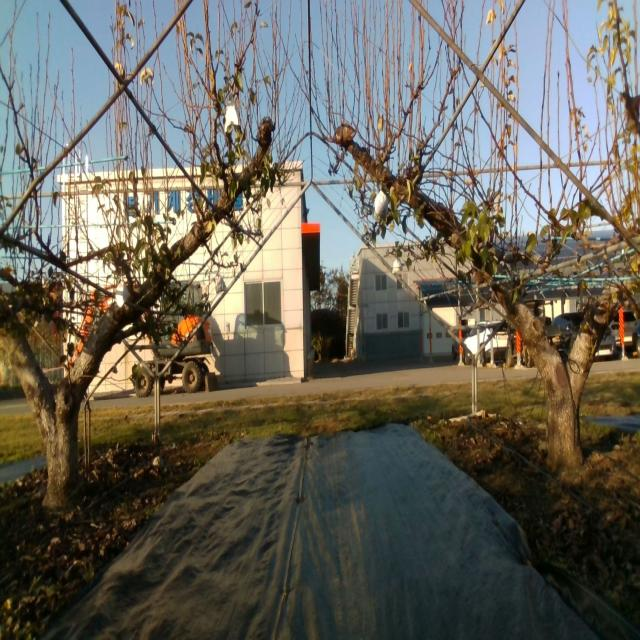pearbags: (223, 100, 241, 133), (374, 189, 389, 220), (115, 277, 128, 308), (215, 272, 228, 294)
